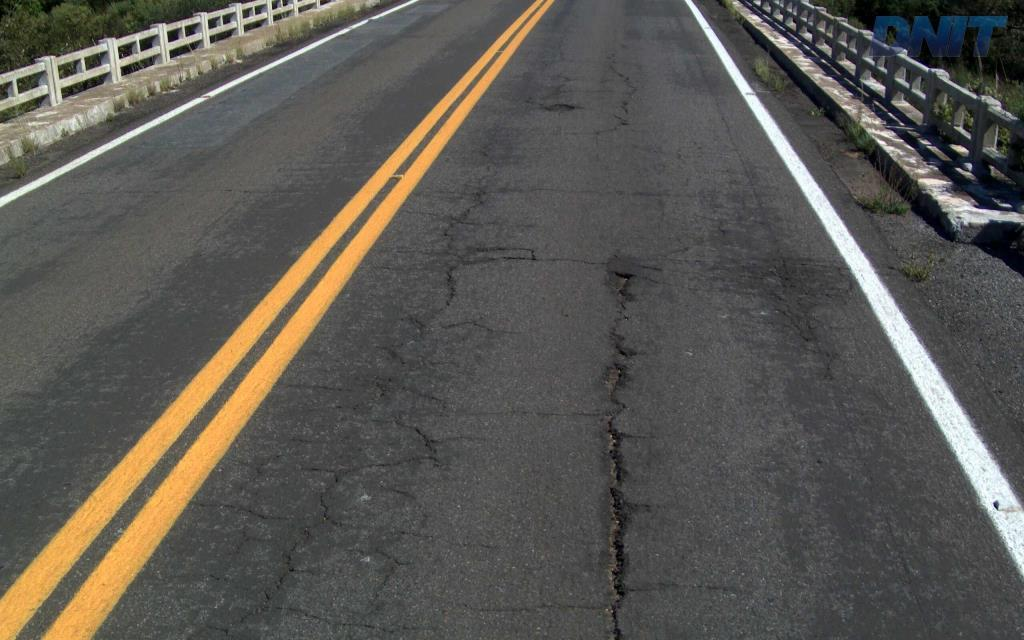crack: (609, 487, 637, 639), (607, 414, 632, 486)
